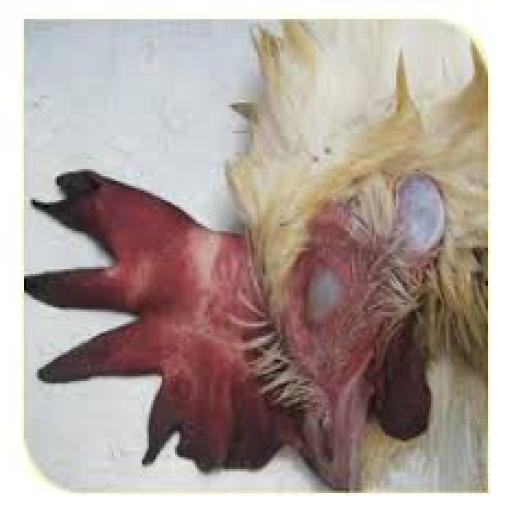disease: (164, 211, 275, 428), (278, 226, 368, 353), (387, 151, 450, 260)
